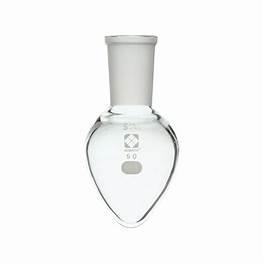Pear shaped flask: (76, 30, 187, 229)
